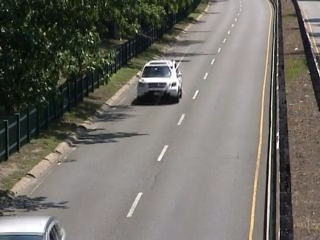car: (132, 57, 189, 108)
